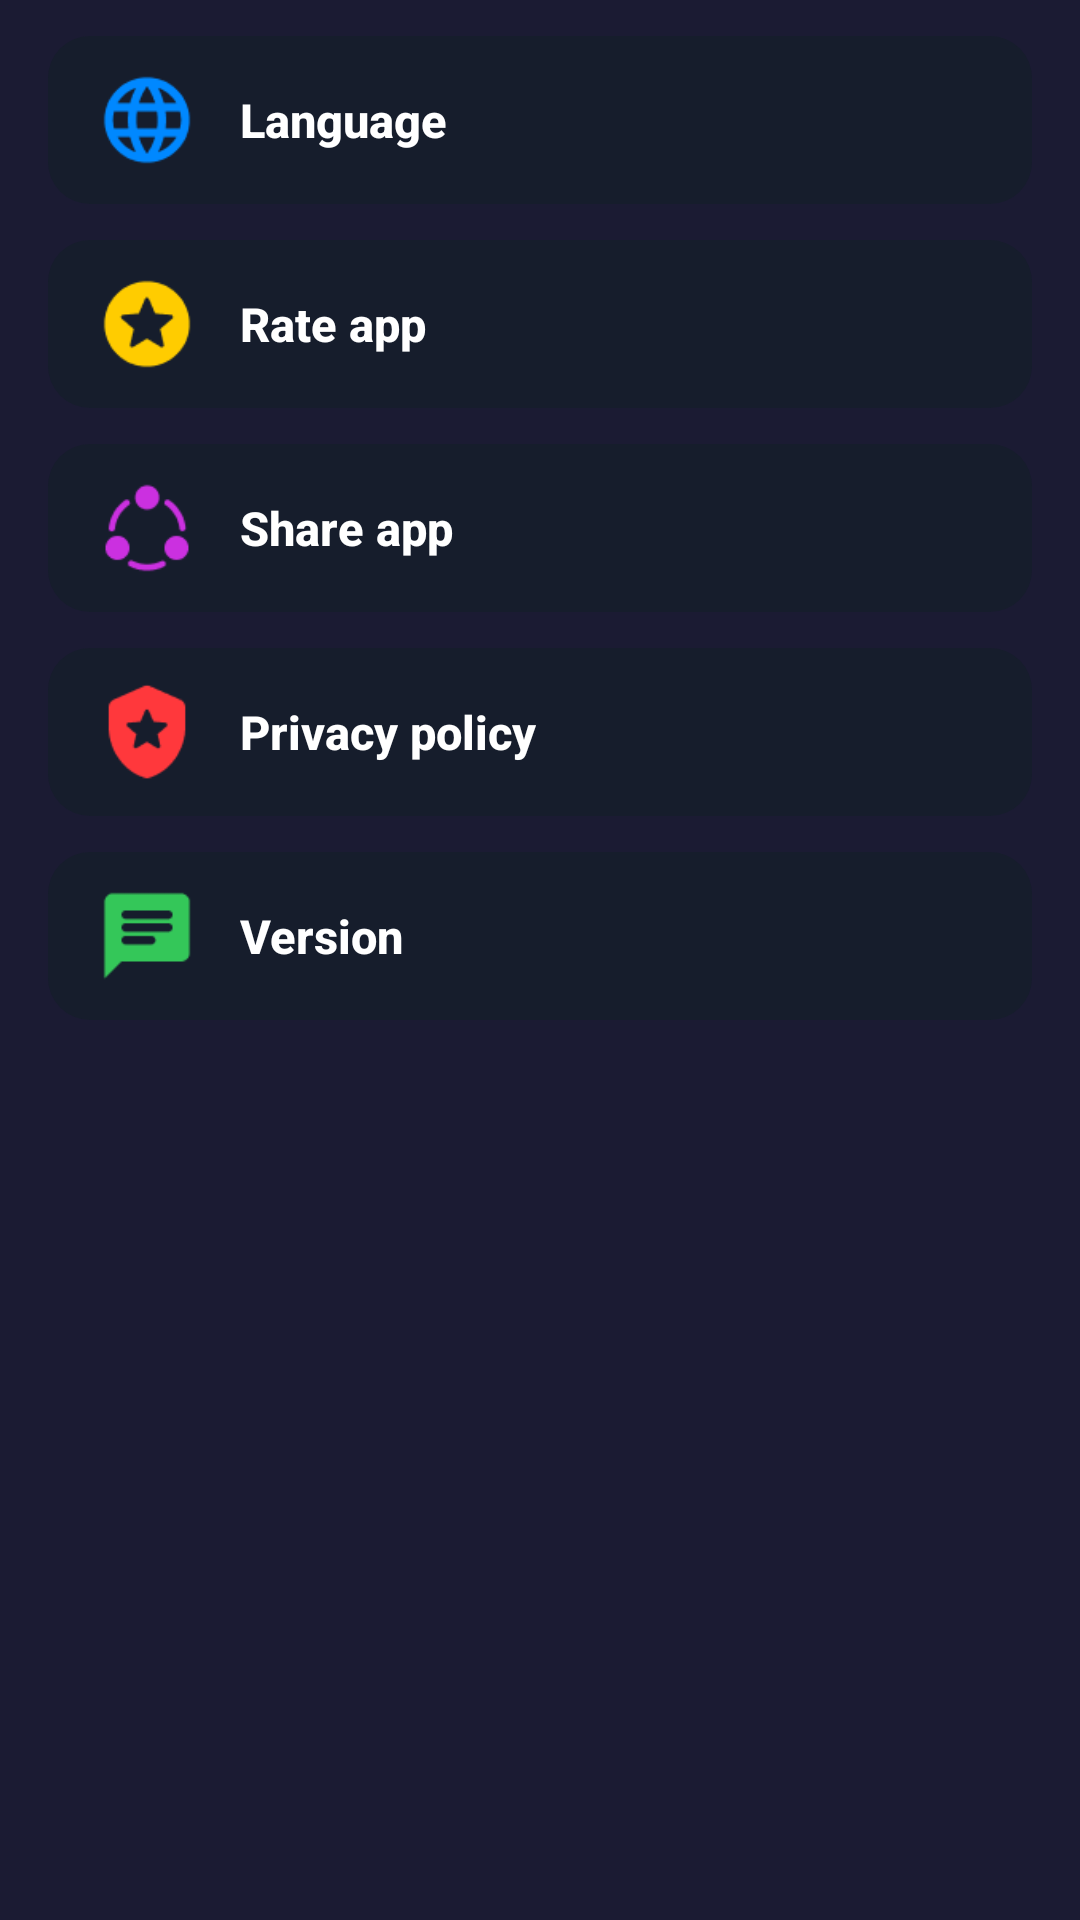

Named icons in this screenshot (1080px×1920px) and their centers, (x,y):
setting policy: (147,732)
